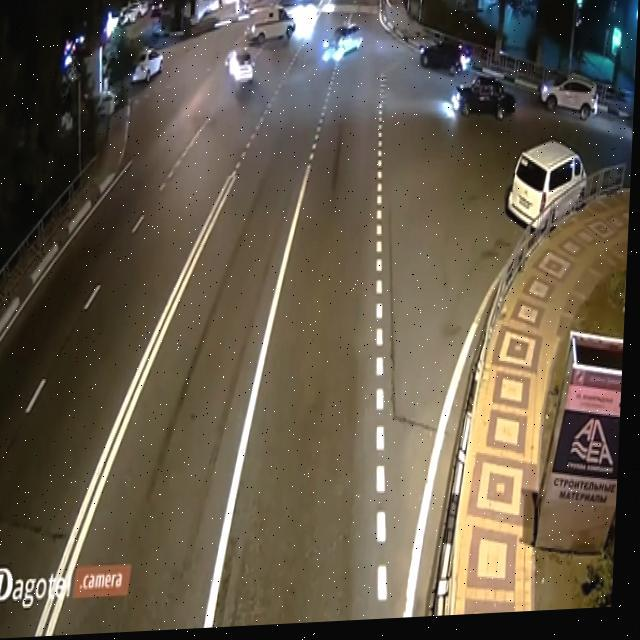normal: (210, 0, 329, 140), (504, 146, 596, 239), (530, 46, 600, 131), (461, 69, 514, 124), (124, 34, 166, 90), (321, 27, 370, 73)
single accident: (404, 20, 487, 77)
